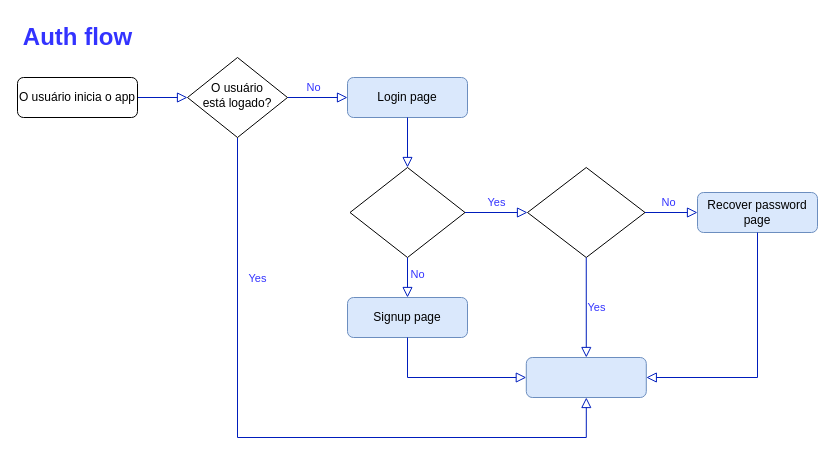
The diagram is 835 pixels wide and 465 high, and some of its shapes have lost their labels. Here are the shapes that lost their labels. From the top down, the centre of each, then its label:
At (407,212): "O usuário possui cadastro?".
At (585,212): "O usuário lembra a senha?".
At (585,377): "Home page".
